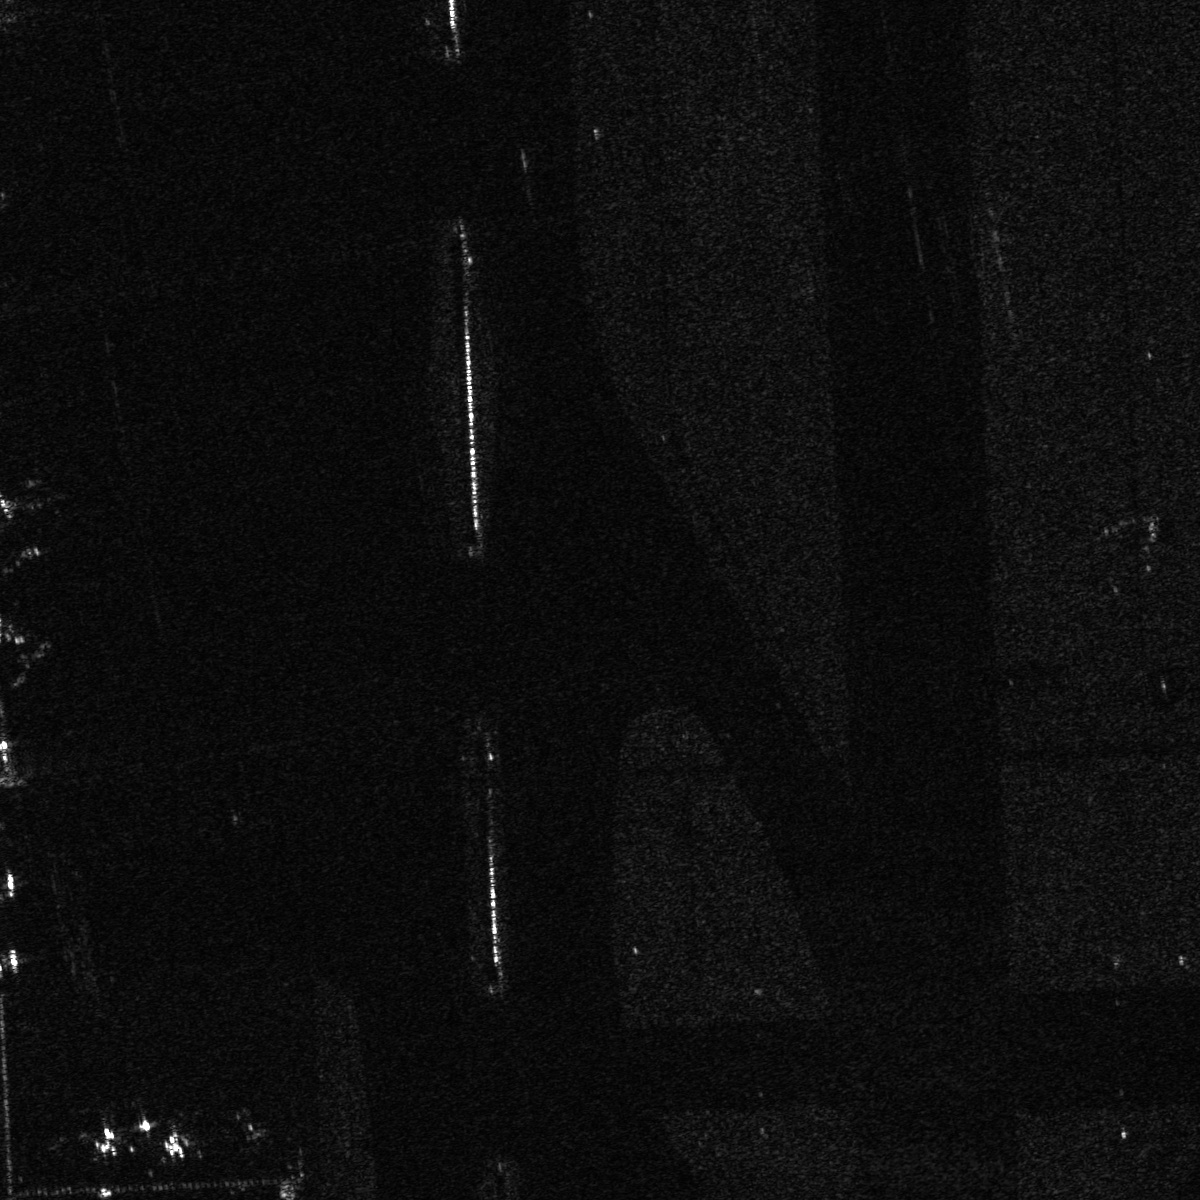ARJ21: (77, 1119, 127, 1165)
other: (2, 473, 84, 519), (146, 1114, 199, 1164)
